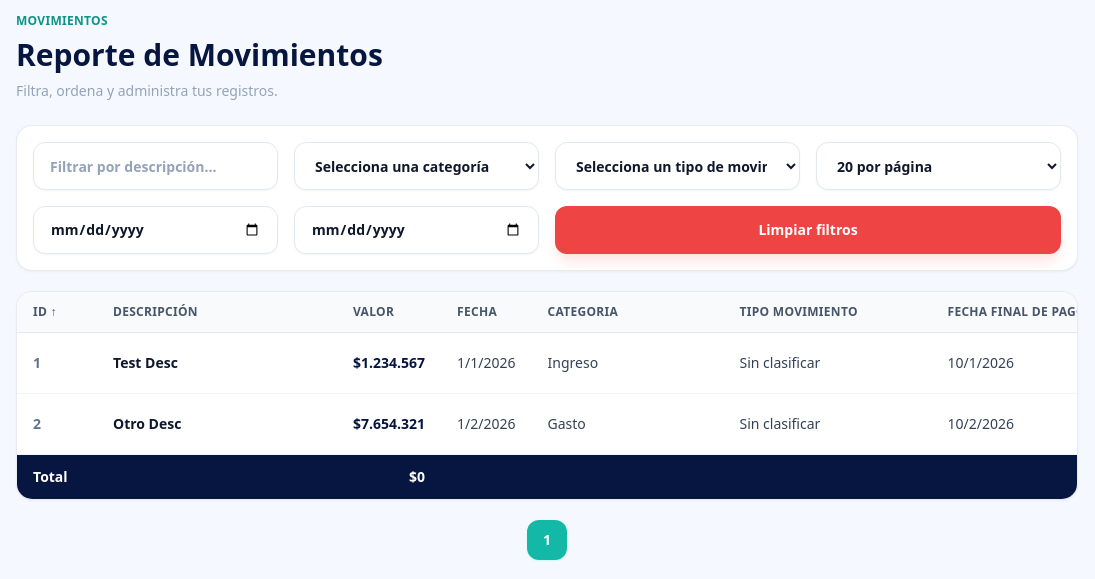
Scenario: TablaReportes coverage › filters by description
In the field with placeholder "Filtrar por descripción...": x=156, y=166 33,142 -> 278,190, type "Test Desc"
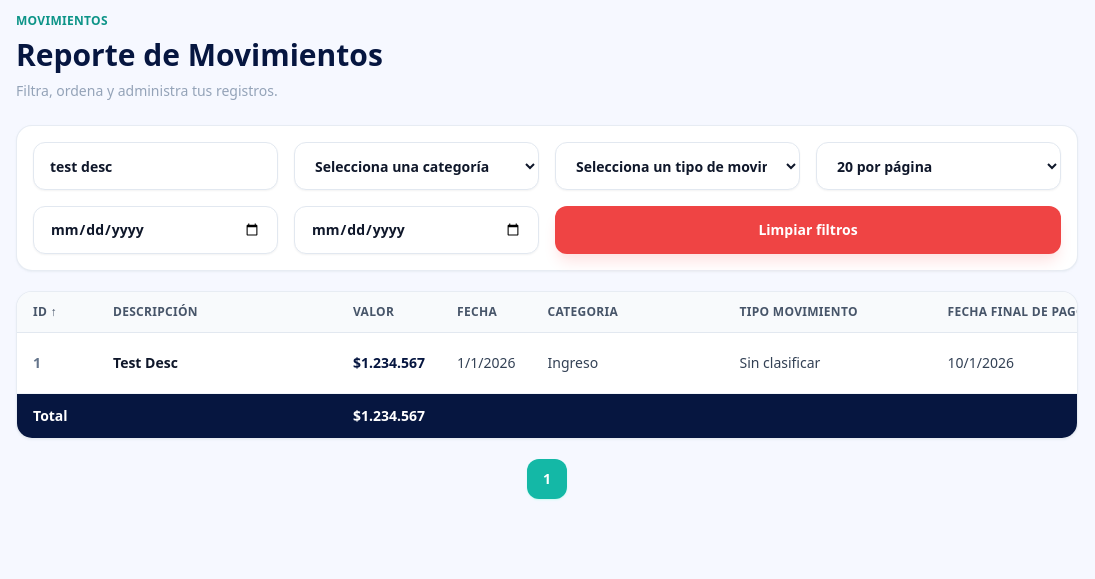
expect the text "Test Desc" is shown: met, box 97,332 -> 337,394
expect the text "Otro Desc" is gone: met
